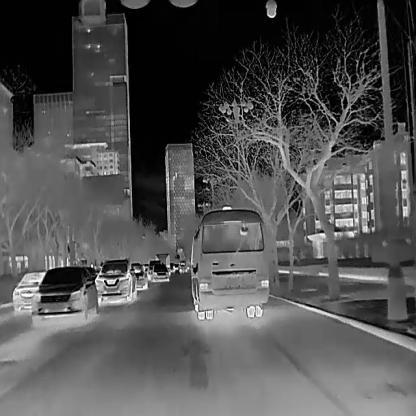car: (183, 204, 269, 319), (31, 266, 96, 324), (93, 258, 135, 302), (11, 270, 44, 310), (133, 263, 148, 290), (149, 262, 169, 282), (154, 252, 170, 262), (178, 261, 188, 272)
